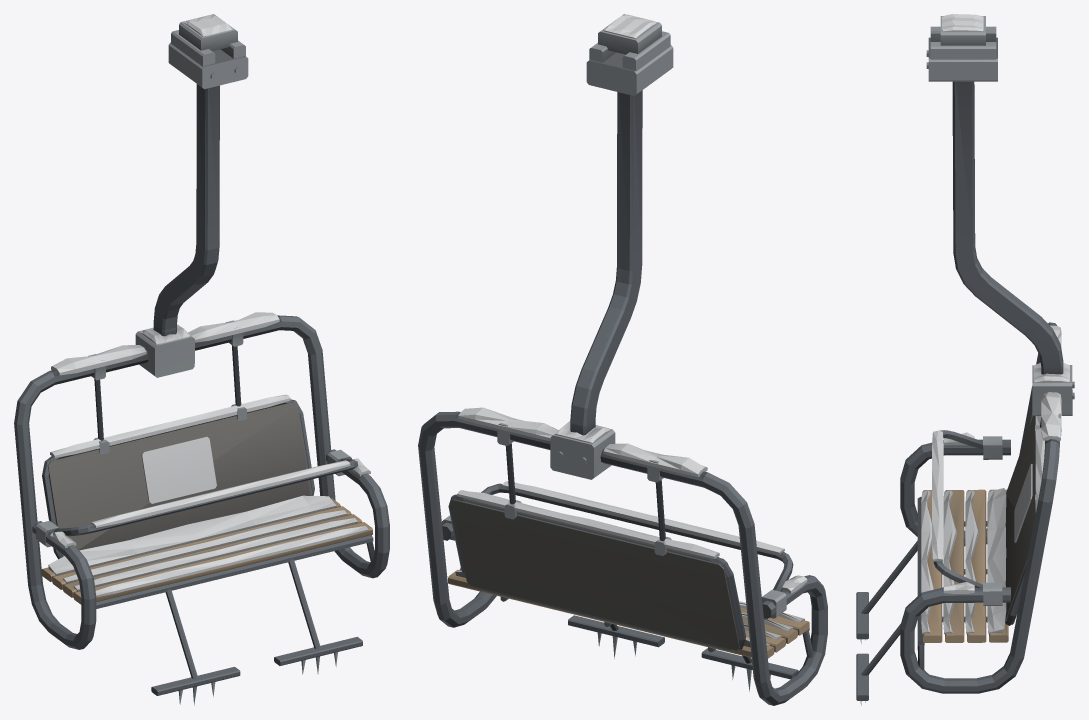
Rendered from chair.glb.
The picture shows the model from 3 angles, left to right: view 1: azimuth 30°, elevation 25°; view 2: azimuth 150°, elevation 25°; view 3: azimuth 270°, elevation 25°; orthographic projection. The views are drawn at different scales.
Parts seen in each view (by area): view 1: chair.001; view 2: chair.001; view 3: chair.001.
Part boxes in pixels (<box>): chair.001: <box>14,14,389,705</box>; chair.001: <box>418,14,827,705</box>; chair.001: <box>856,14,1074,705</box>.
Bounding box in the file's own units: 2 × 3.95 × 1.2.
